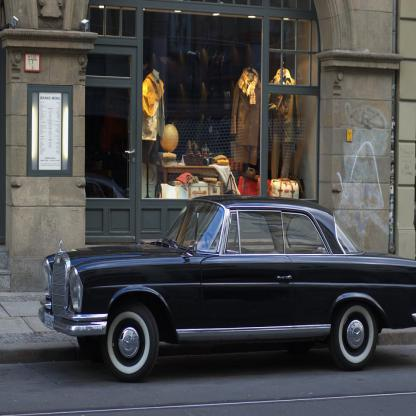Car: (38, 195, 415, 384)
